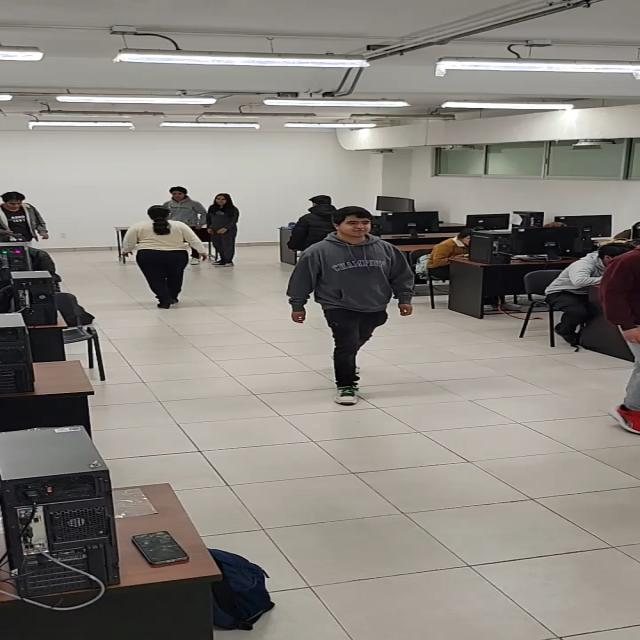Persona: (276, 204, 418, 410), (118, 204, 204, 309), (206, 191, 243, 268)
